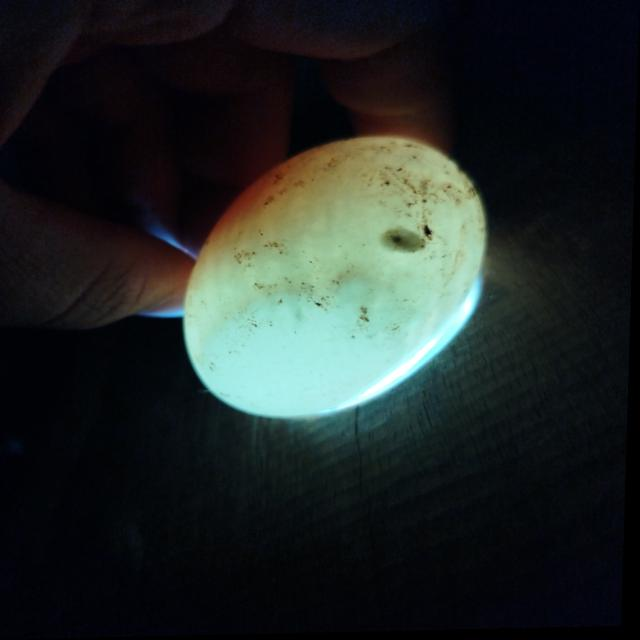Camara de Ar: (201, 279, 414, 415)
Gema Quebrada: (204, 148, 325, 251)
